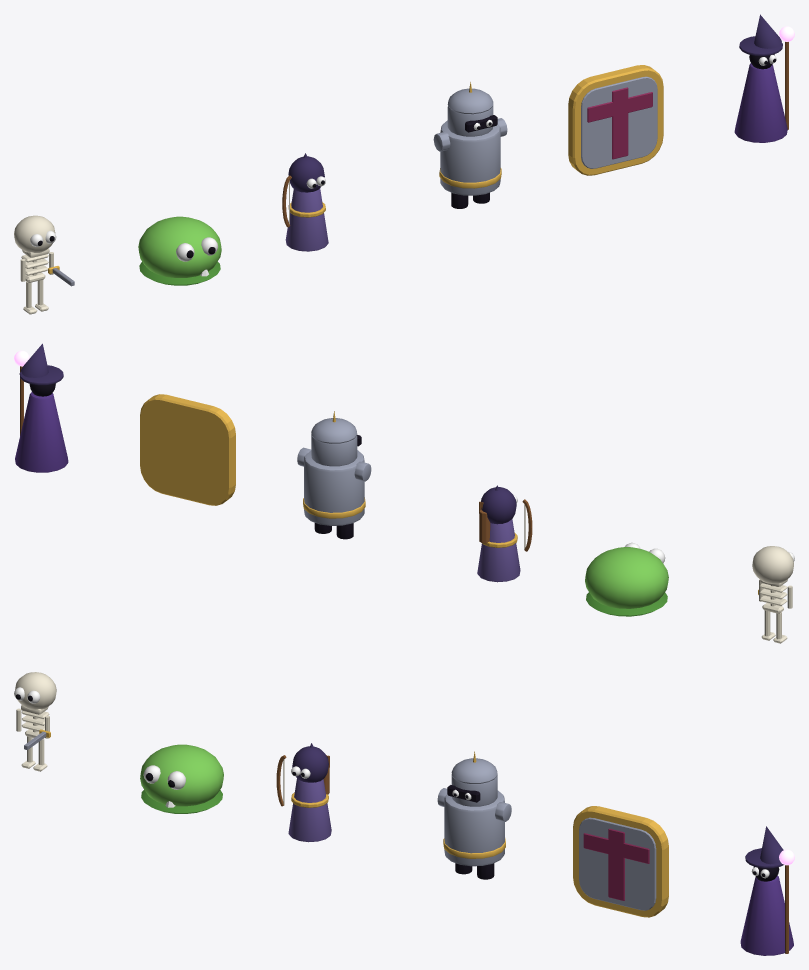
File: CastleEnemies.fbx
3 views of the same model, one above another, from view 1: azimuth 30°, elevation 25°; view 2: azimuth 150°, elevation 25°; view 3: azimuth 330°, elevation 25° (orthographic).
Parts seen in each view (by area): view 1: SC_Char_Guard_Armor, SC_Char_GuardShield_Face, SC_Char_Slime_Body, SC_Char_GuardShield_Rim, SC_Char_Mage_Robe, SC_Char_Skeleton_Bone, SC_Char_Archer_Robe, SC_Char_GuardShield_Stripe, SC_Char_Mage_Hat, SC_Char_Archer_Hood, SC_Char_Slime_Base; view 2: SC_Char_GuardShield_Rim, SC_Char_Guard_Armor, SC_Char_Slime_Body, SC_Char_Mage_Robe, SC_Char_Skeleton_Bone, SC_Char_Archer_Robe, SC_Char_Archer_Hood, SC_Char_Mage_Hat, SC_Char_Slime_Base; view 3: SC_Char_Guard_Armor, SC_Char_GuardShield_Face, SC_Char_Slime_Body, SC_Char_GuardShield_Rim, SC_Char_Mage_Robe, SC_Char_Skeleton_Bone, SC_Char_Archer_Robe, SC_Char_GuardShield_Stripe, SC_Char_Archer_Hood, SC_Char_Mage_Hat, SC_Char_Slime_Base.
Boxes of the visible parts, <box> form: SC_Char_Guard_Armor: <box>433,88,507,195</box>; SC_Char_GuardShield_Face: <box>581,76,657,168</box>; SC_Char_Slime_Body: <box>138,216,221,277</box>; SC_Char_GuardShield_Rim: <box>568,65,663,175</box>; SC_Char_Mage_Robe: <box>734,63,787,142</box>; SC_Char_Skeleton_Bone: <box>14,215,55,314</box>; SC_Char_Archer_Robe: <box>285,188,328,251</box>; SC_Char_GuardShield_Stripe: <box>587,87,652,159</box>; SC_Char_Mage_Hat: <box>739,14,782,55</box>; SC_Char_Archer_Hood: <box>288,153,324,192</box>; SC_Char_Slime_Base: <box>139,261,220,285</box>; SC_Char_GuardShield_Rim: <box>140,394,235,505</box>; SC_Char_Guard_Armor: <box>297,418,371,525</box>; SC_Char_Slime_Body: <box>585,547,668,608</box>; SC_Char_Mage_Robe: <box>15,392,68,472</box>; SC_Char_Skeleton_Bone: <box>752,546,793,643</box>; SC_Char_Archer_Robe: <box>477,519,520,582</box>; SC_Char_Archer_Hood: <box>481,485,516,524</box>; SC_Char_Mage_Hat: <box>19,343,63,385</box>; SC_Char_Slime_Base: <box>586,592,667,616</box>; SC_Char_Guard_Armor: <box>437,758,511,866</box>; SC_Char_GuardShield_Face: <box>579,817,656,910</box>; SC_Char_Slime_Body: <box>140,744,223,806</box>; SC_Char_GuardShield_Rim: <box>573,806,668,917</box>; SC_Char_Mage_Robe: <box>740,875,793,955</box>; SC_Char_Skeleton_Bone: <box>15,672,56,771</box>; SC_Char_Archer_Robe: <box>288,778,331,842</box>; SC_Char_GuardShield_Stripe: <box>583,828,649,900</box>; SC_Char_Archer_Hood: <box>292,743,328,782</box>; SC_Char_Mage_Hat: <box>745,826,783,868</box>; SC_Char_Slime_Base: <box>141,790,222,813</box>.
Size of the model in its own units: 4263 by 650 by 430.
